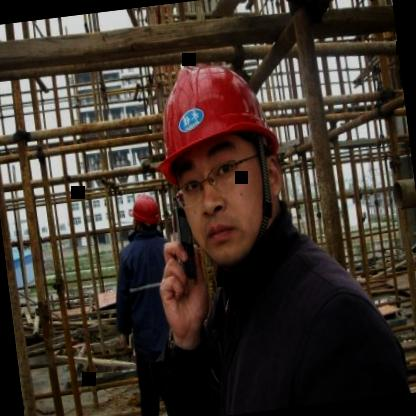helmet: (137, 36, 304, 282), (126, 189, 166, 236)
